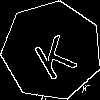K: (27, 25, 79, 82)
